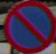No waiting: (5, 1, 51, 48)
